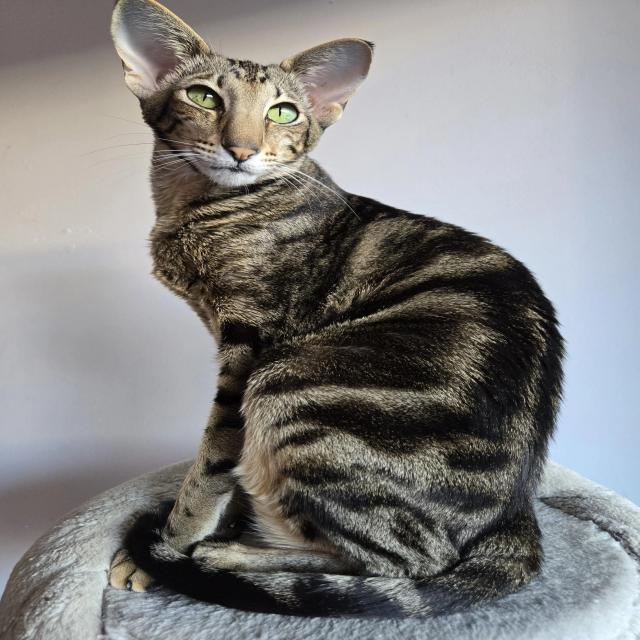Oriental: (102, 0, 570, 626)
